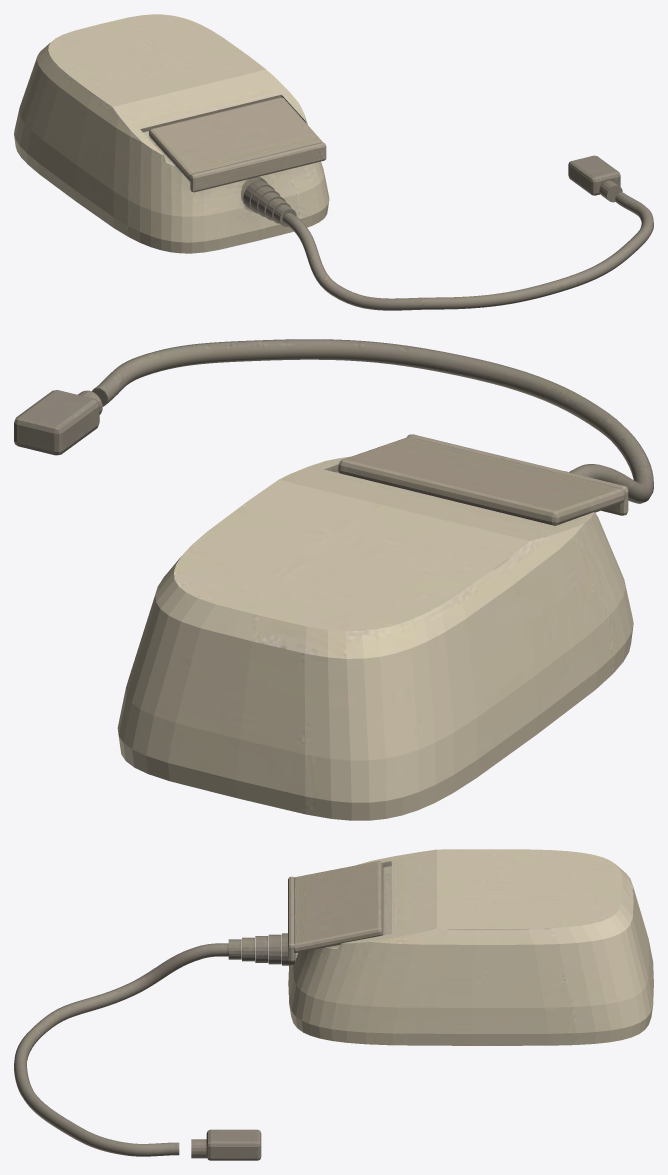
File: mouse-c.glb
3 views of the same model, one above another, from view 1: azimuth 30°, elevation 25°; view 2: azimuth 150°, elevation 25°; view 3: azimuth 270°, elevation 25° (orthographic). The views are drawn at different scales.
Visible parts, largest first — view 1: so-baked; view 2: so-baked; view 3: so-baked.
Part boxes in pixels (x1,y1,x2,y2): so-baked: [14, 14, 653, 310]; so-baked: [14, 339, 653, 820]; so-baked: [14, 849, 653, 1160].
Size of the model in its own units: 0.1503 by 0.036 by 0.1873.
1 material, 1 textured.
